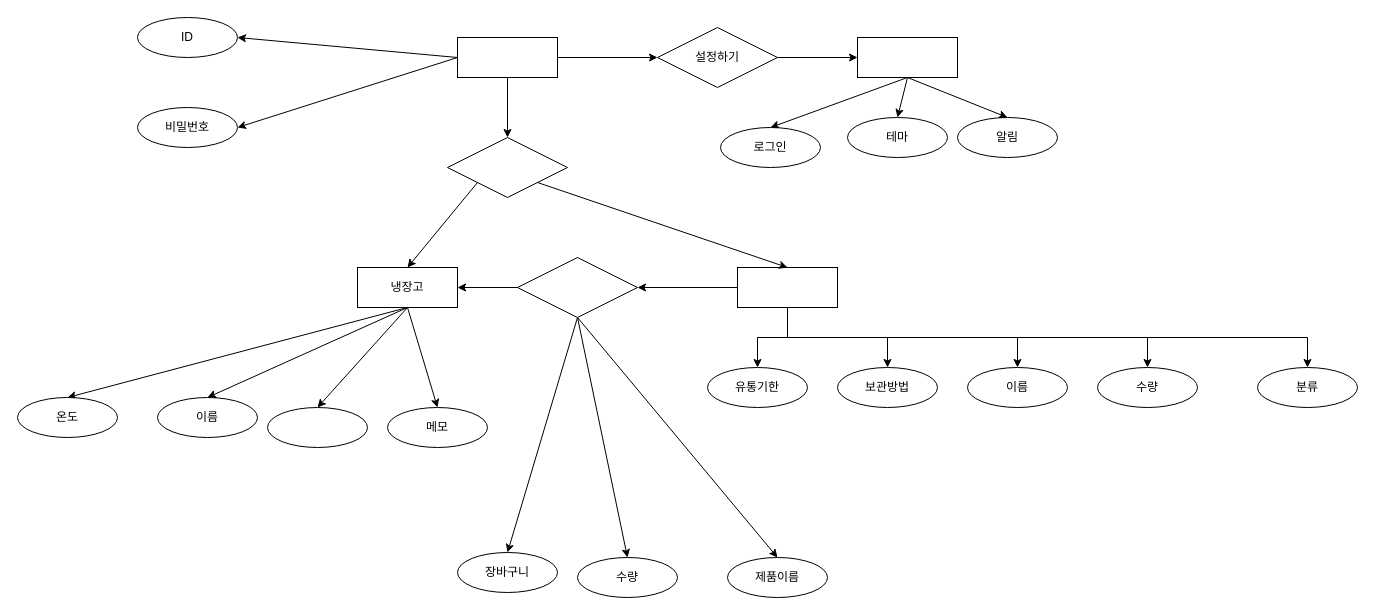
This 1375x615 diagram has some shape labels left out. Here are the shapes that lost their labels. From the top down, the centre of each, then its label:
At point 507,57: "사용자".
At point 907,57: "설정".
At point 507,167: "추가하기".
At point 577,287: "보관하기".
At point 787,287: "식품".
At point 317,427: "사진".
